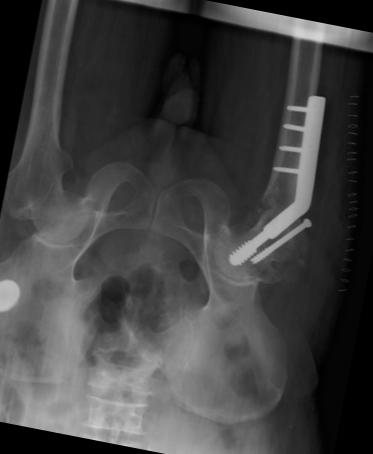fractured: (257, 195, 292, 214)
